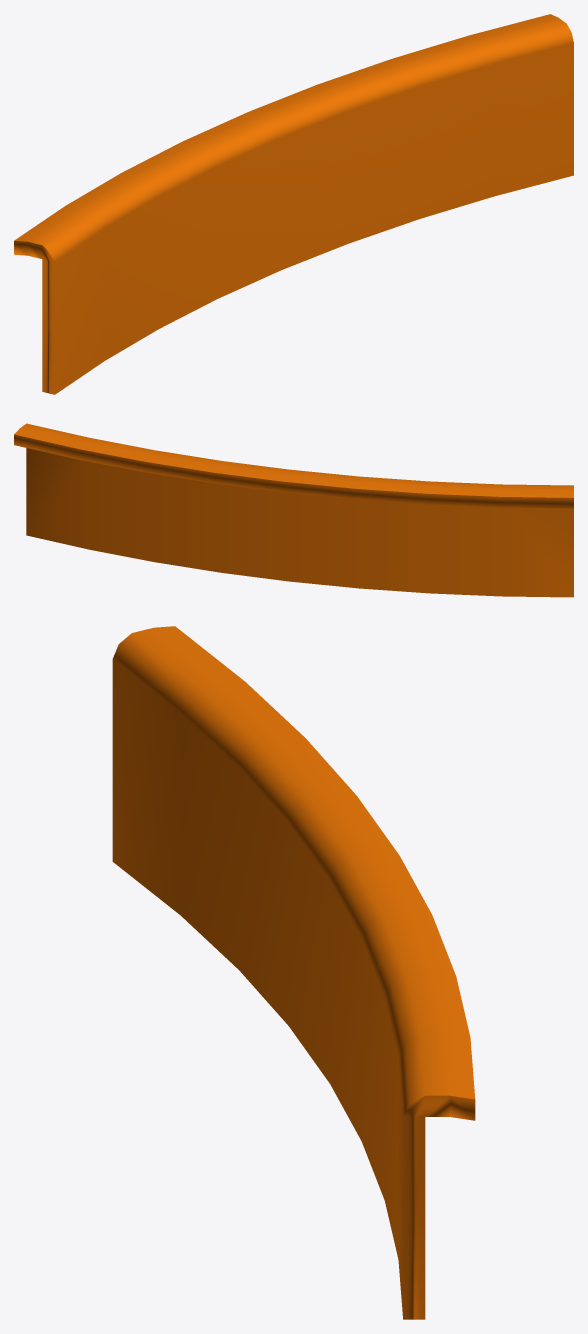
Rendered from Plastic_Pipe_D_Left_Inv.fbx.
3 renders of one model, top to bottom at view 1: azimuth 30°, elevation 25°; view 2: azimuth 150°, elevation 25°; view 3: azimuth 270°, elevation 25°, orthographic. The views are drawn at different scales.
Parts seen in each view (by area): view 1: Plastic_Pipe_D_Left_Inv; view 2: Plastic_Pipe_D_Left_Inv; view 3: Plastic_Pipe_D_Left_Inv.
Boxes of the visible parts, box(x1,y1,x2,y2) form: Plastic_Pipe_D_Left_Inv: box(14, 14, 573, 394); Plastic_Pipe_D_Left_Inv: box(14, 423, 573, 597); Plastic_Pipe_D_Left_Inv: box(112, 626, 475, 1319).
Bounding box in the file's own units: 11.18 × 2.47 × 3.62.
